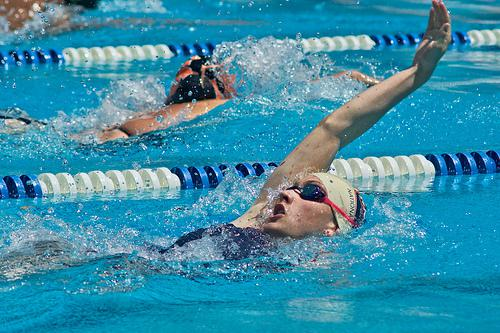swimmer: (169, 1, 449, 271), (86, 46, 239, 146)
